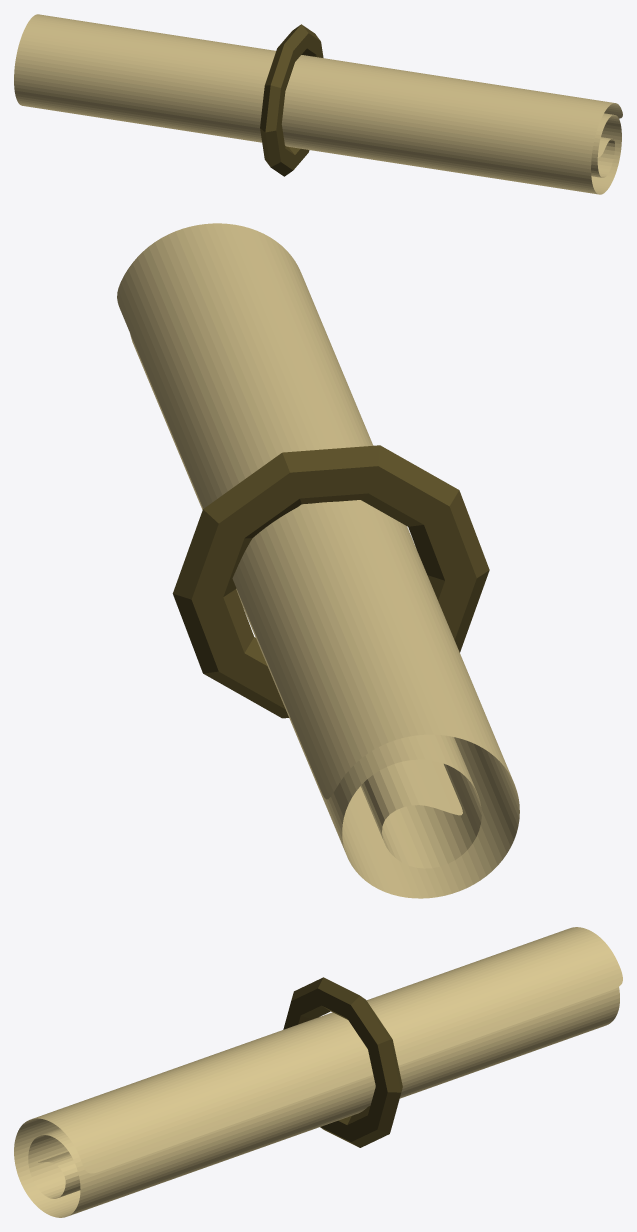
Rendered from shoji.fbx.
3 renders of one model, top to bottom at view 1: azimuth 30°, elevation 25°; view 2: azimuth 150°, elevation 25°; view 3: azimuth 270°, elevation 25°, orthographic. The views are drawn at different scales.
Parts seen in each view (by area): view 1: Kağıt, Torus.001; view 2: Kağıt, Torus.001; view 3: Kağıt, Torus.001.
Boxes of the visible parts, x1,y1,x2,y2 form: Kağıt: (14,14,622,194); Torus.001: (260,24,323,176); Kağıt: (117,223,519,898); Torus.001: (172,445,489,718); Kağıt: (14,927,622,1217); Torus.001: (283,977,402,1147).
Size of the model in its own units: 79.81 by 25.06 by 90.7.
